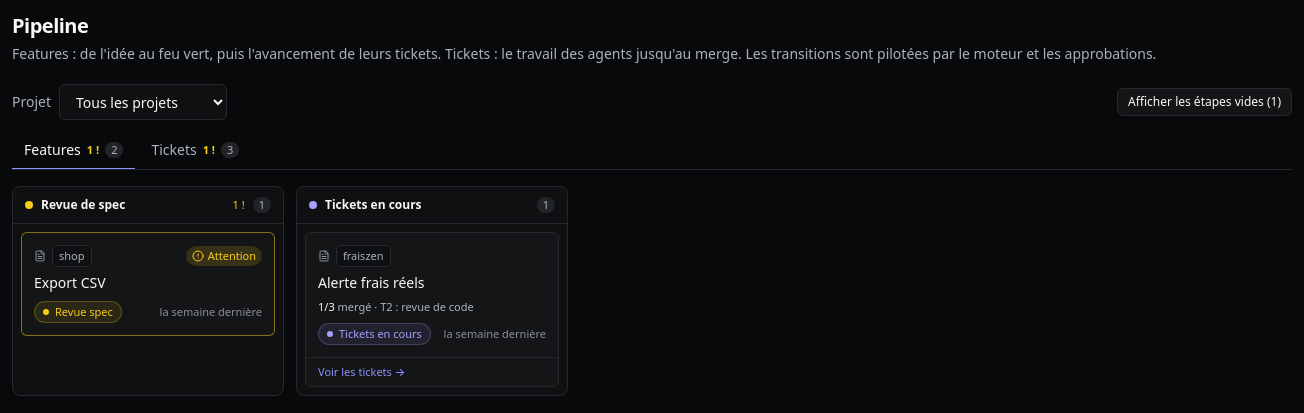
it: Pipeline › affiche les étapes vides à la demande et mémorise le choix
Click the button "Afficher les étapes vides (1)" at (1205, 102), box [1117,88,1292,116]
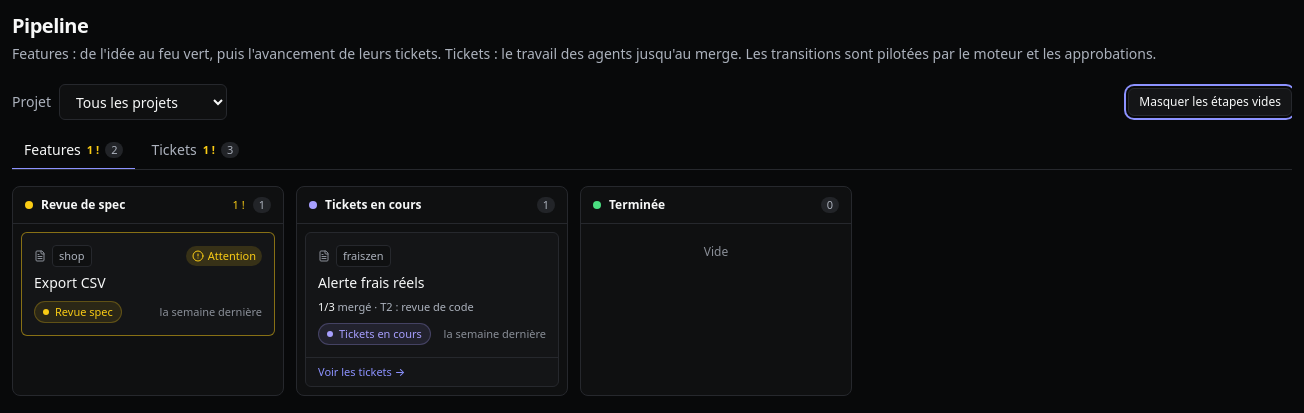
Expected: the number of elements with test id "pipeline-column" is 3, [12,186,284,396]; [296,186,568,396]; [580,186,852,396]
Expected: the text "Vide" is shown, [704,243,728,260]
